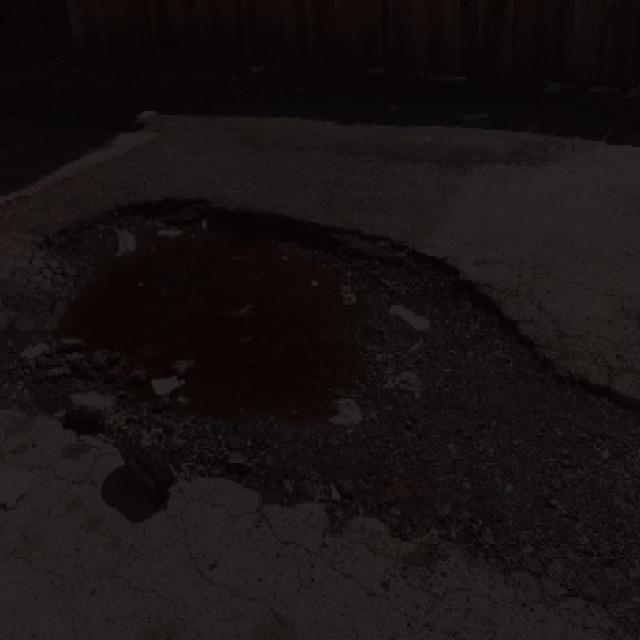Pothole: (20, 194, 435, 502)
